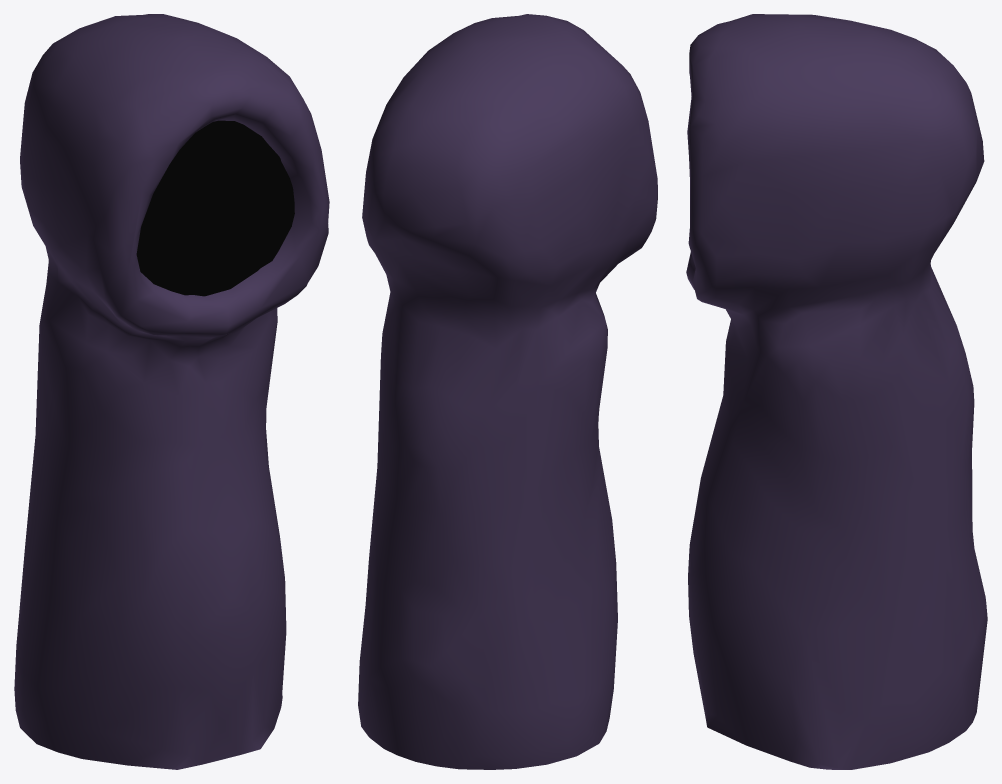
Rendered from CultMember.fbx.
The picture shows the model from 3 angles, left to right: view 1: azimuth 30°, elevation 25°; view 2: azimuth 150°, elevation 25°; view 3: azimuth 270°, elevation 25°; orthographic projection. The views are drawn at different scales.
Parts seen in each view (by area): view 1: Cube.005; view 2: Cube.005; view 3: Cube.005.
Boxes of the visible parts, x1,y1,x2,y2 form: Cube.005: (14,14,329,769); Cube.005: (358,14,657,769); Cube.005: (686,14,987,769).
Bounding box in the file's own units: 205 × 574 × 229.
